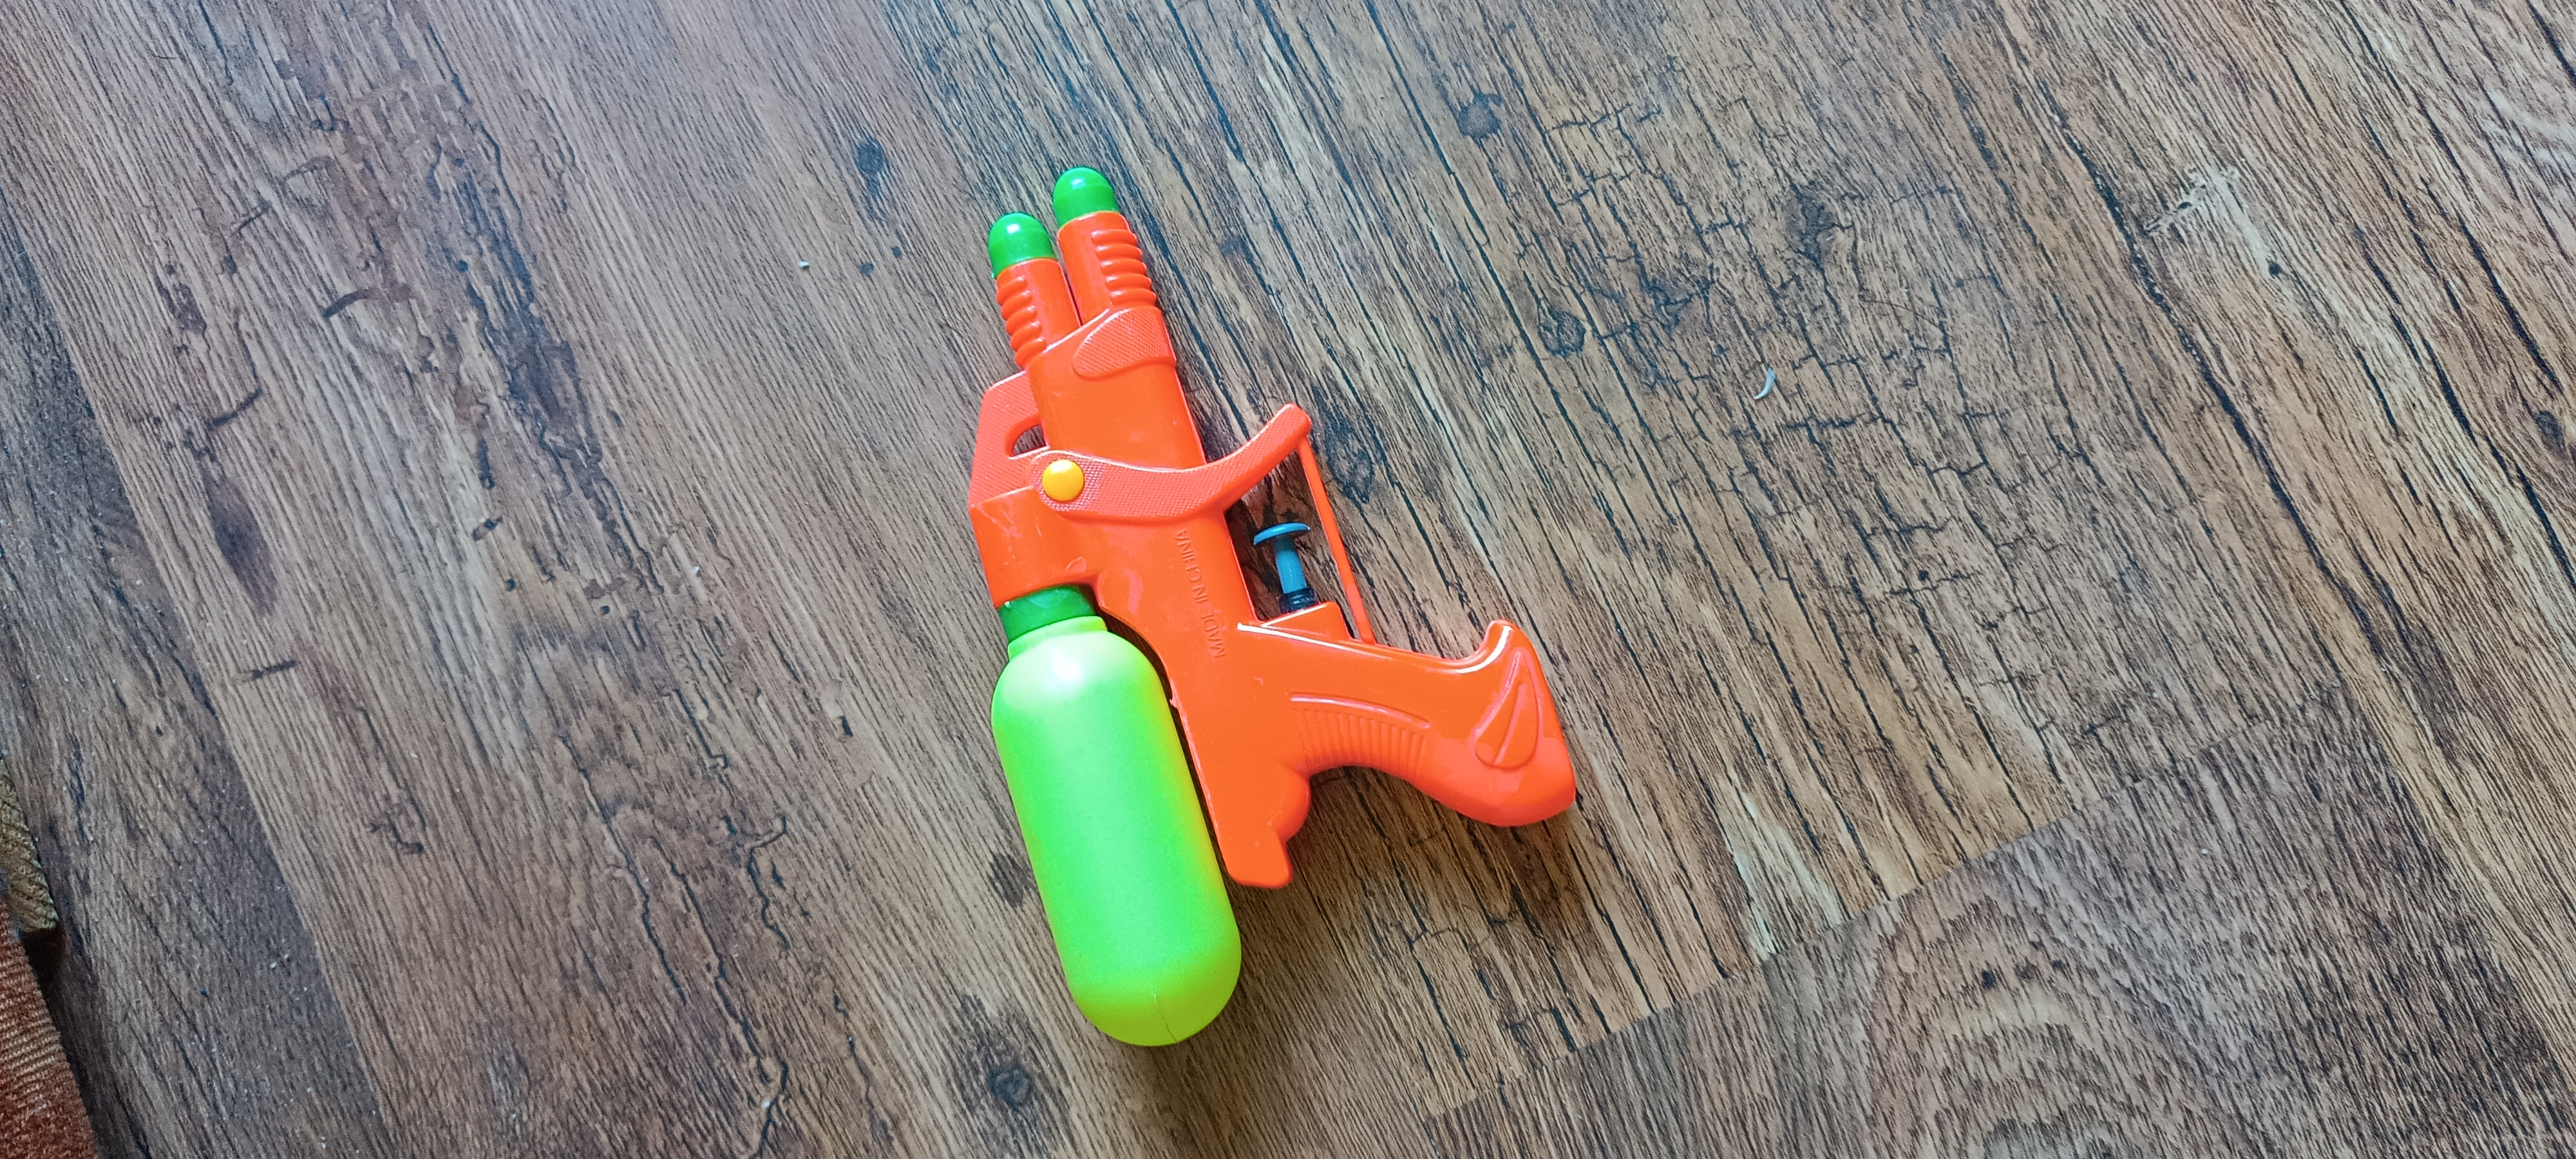Water Gun: (968, 166, 1579, 1046)
